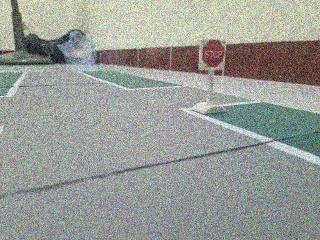stop: (199, 35, 227, 72)
